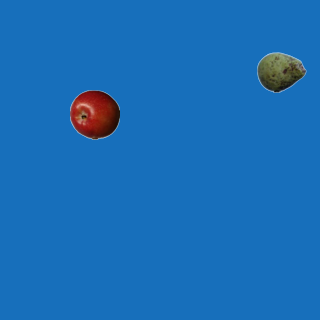Apple Braeburn: (69, 89, 119, 139)
Pear Stone: (256, 47, 306, 97)
